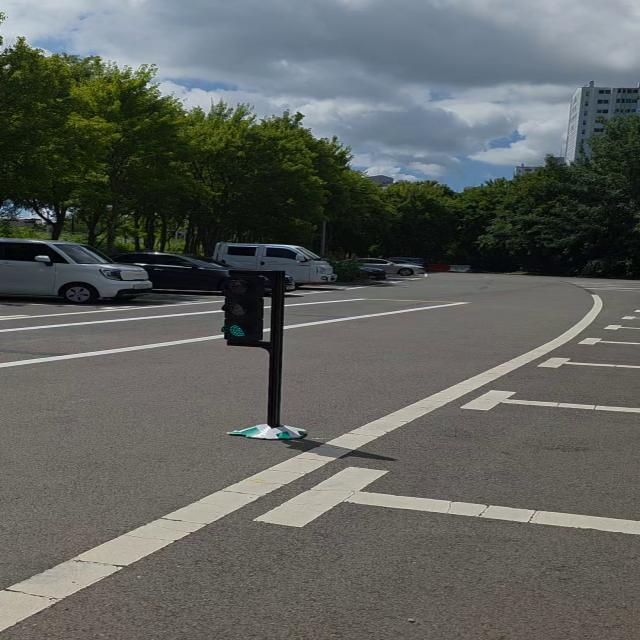green: (219, 274, 268, 344)
